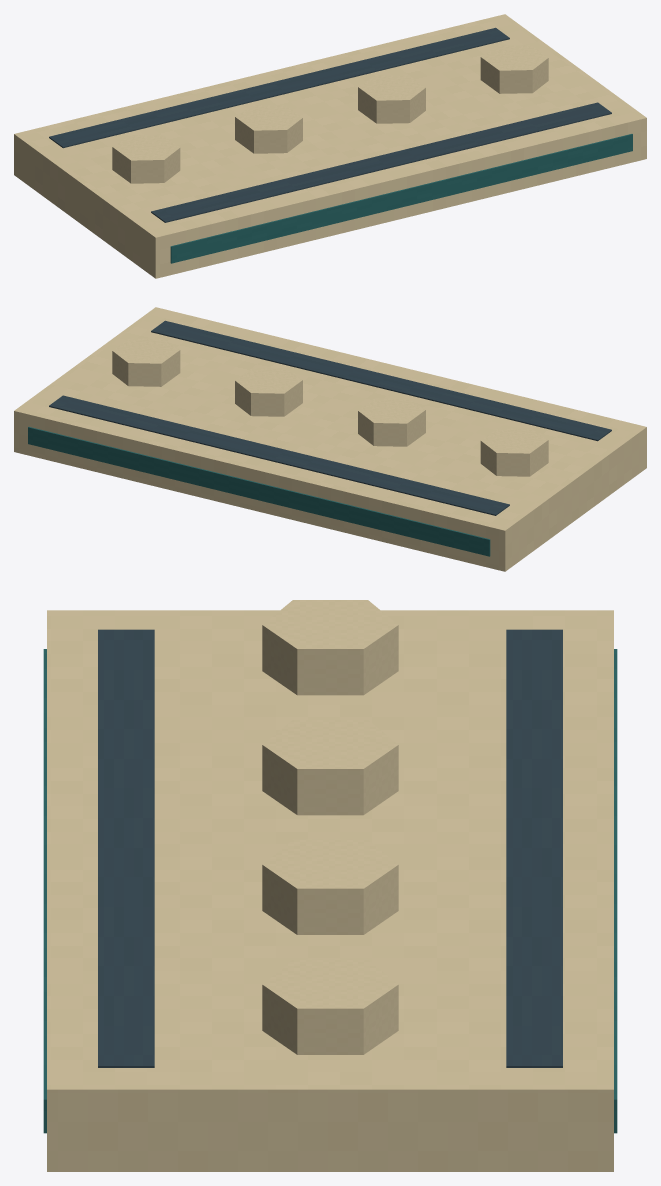
The model's file is plate-lod-2.glb.
3 renders of one model, top to bottom at view 1: azimuth 30°, elevation 25°; view 2: azimuth 150°, elevation 25°; view 3: azimuth 270°, elevation 25°, orthographic. The views are drawn at different scales.
Parts seen in each view (by area): view 1: plate_lod_2; view 2: plate_lod_2; view 3: plate_lod_2.
Part boxes in pixels (left/top/right/bottom): plate_lod_2: left=14, top=14, right=646, bottom=278; plate_lod_2: left=14, top=307, right=646, bottom=571; plate_lod_2: left=43, top=600, right=617, bottom=1171.
Size of the model in its own units: 4 by 0.5 by 2.02.
1 material, 1 textured.
